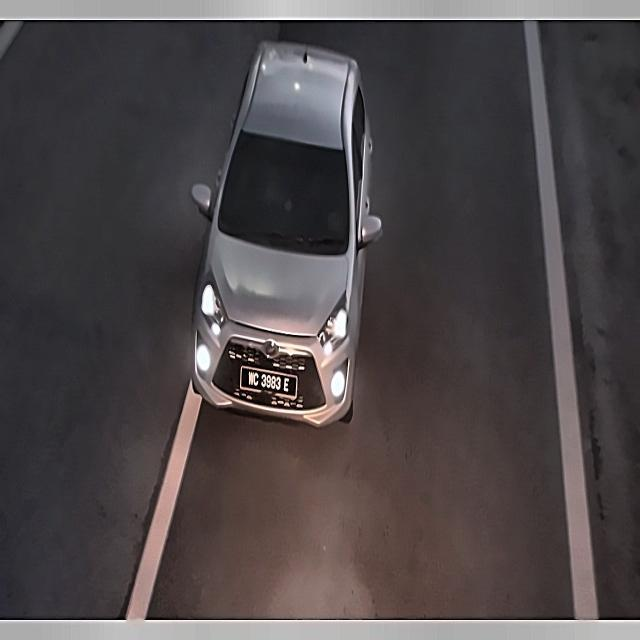car: (239, 364, 301, 402)
